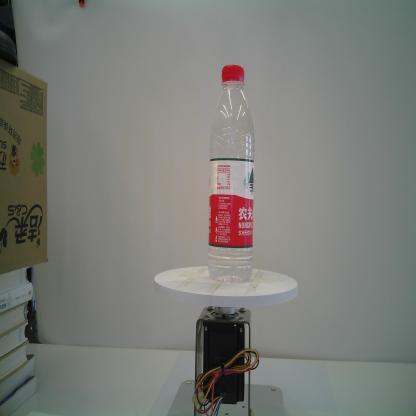Drink: (208, 64, 255, 282)
